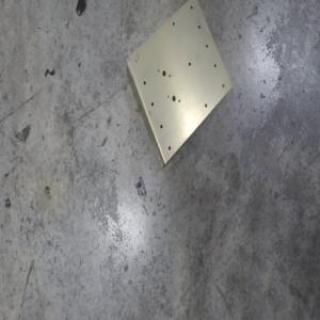MetalSheettrack_idkeyframe: (122, 0, 232, 170)
